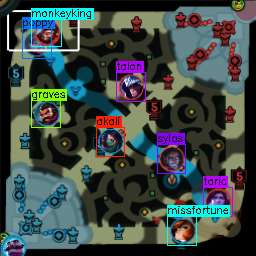akali: (98, 128, 122, 152)
graves: (34, 100, 57, 124)
missfortune: (170, 218, 194, 242)
monkeyking: (34, 18, 59, 45)
poppy: (23, 31, 48, 55)
sylas: (158, 144, 183, 171)
talon: (118, 74, 143, 98)
taric: (205, 187, 230, 213)
